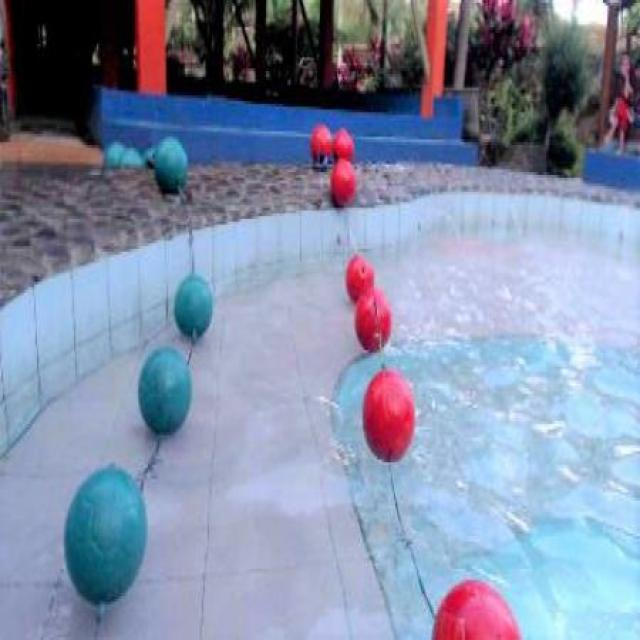buoy: (62, 462, 146, 604), (430, 577, 521, 638), (360, 367, 415, 459), (136, 347, 190, 435), (354, 287, 391, 353), (173, 275, 211, 338), (154, 134, 188, 189), (345, 254, 375, 304), (328, 154, 355, 207)
